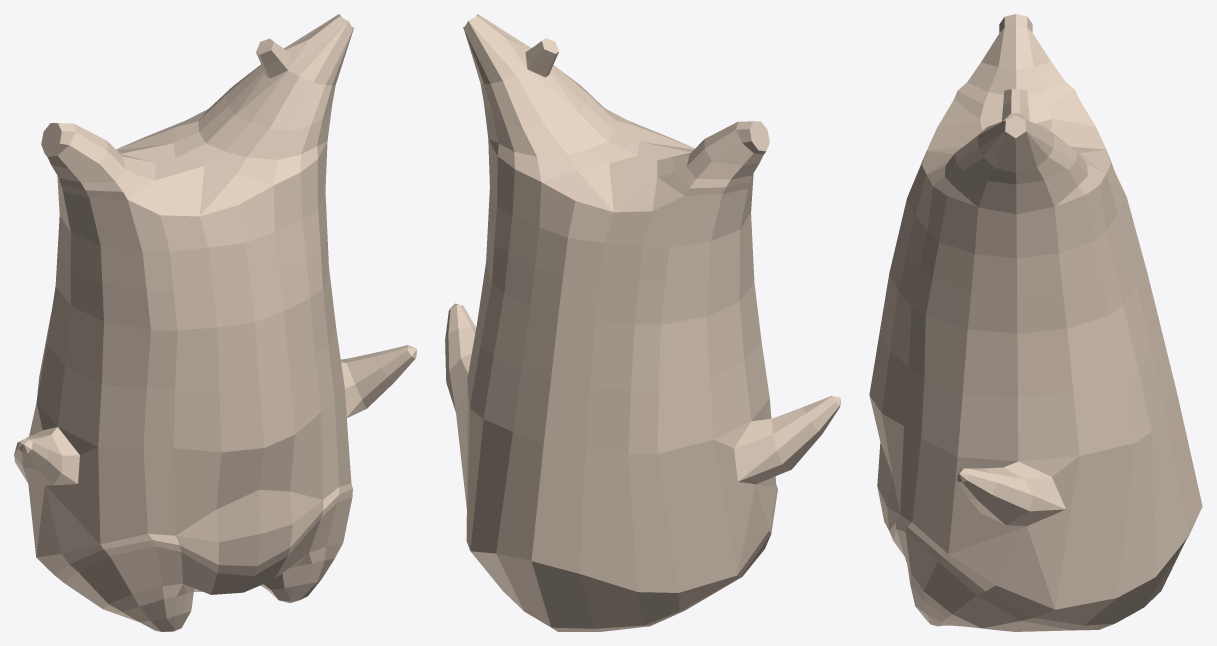
File: frame_0133.obj
The picture shows the model from 3 angles, left to right: view 1: azimuth 30°, elevation 25°; view 2: azimuth 150°, elevation 25°; view 3: azimuth 270°, elevation 25°; orthographic projection. The views are drawn at different scales.
Parts seen in each view (by area): view 1: korok; view 2: korok; view 3: korok.
Part boxes in pixels (x1,y1,x2,y2): korok: [14, 14, 416, 631]; korok: [445, 14, 840, 631]; korok: [869, 14, 1202, 631].
Size of the model in its own units: 1.47 by 1.96 by 1.04.
